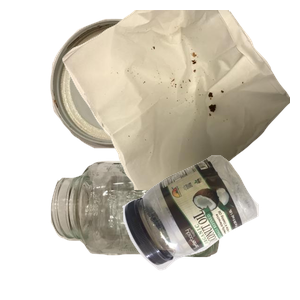glass: (48, 156, 260, 300)
metal: (47, 16, 214, 157)
plastic: (120, 152, 300, 300)
trash: (60, 10, 300, 190)
